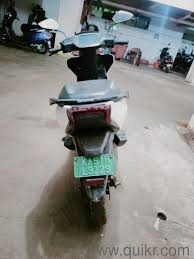Number plates: (67, 152, 119, 178)
